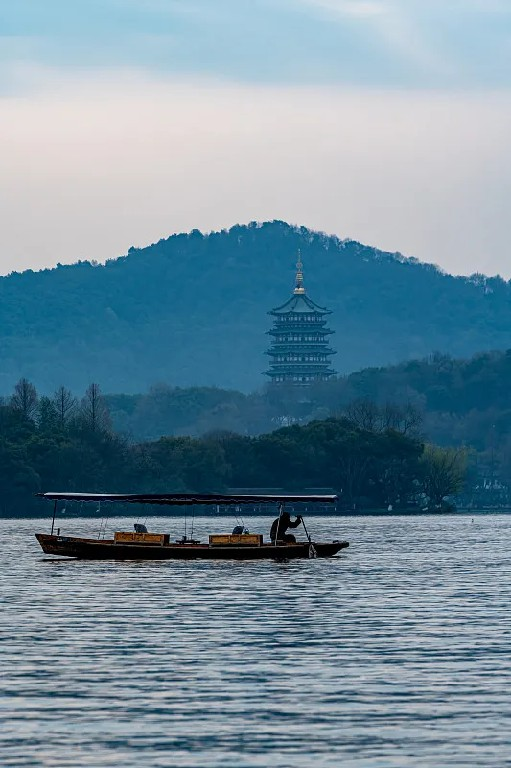Leifeng: (264, 248, 341, 395)
